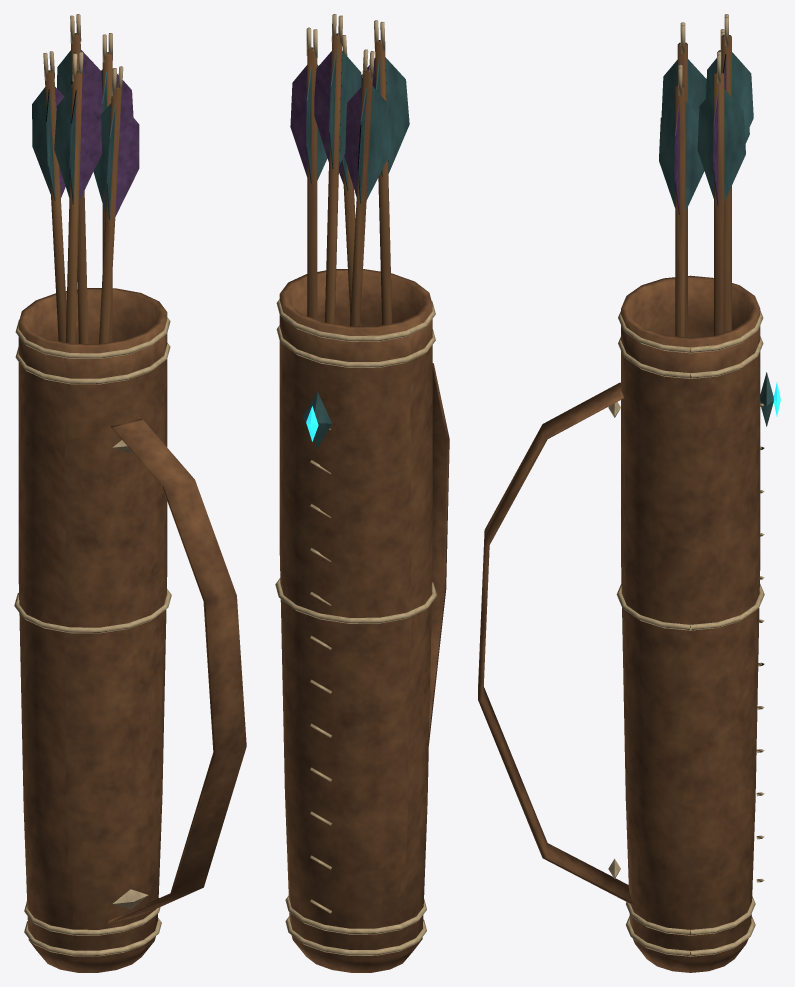
The model's file is quiver.glb.
3 views of the same model, side by side, from view 1: azimuth 30°, elevation 25°; view 2: azimuth 150°, elevation 25°; view 3: azimuth 270°, elevation 25° (orthographic). The views are drawn at different scales.
Parts seen in each view (by area): view 1: quiver_mesh; view 2: quiver_mesh; view 3: quiver_mesh.
Boxes of the visible parts, x1,y1,x2,y2 form: quiver_mesh: (14, 14, 246, 972); quiver_mesh: (275, 14, 449, 972); quiver_mesh: (478, 14, 780, 972).
Bounding box in the file's own units: 0.1269 × 0.8 × 0.235.
Materials: 1 (1 with a texture image).
